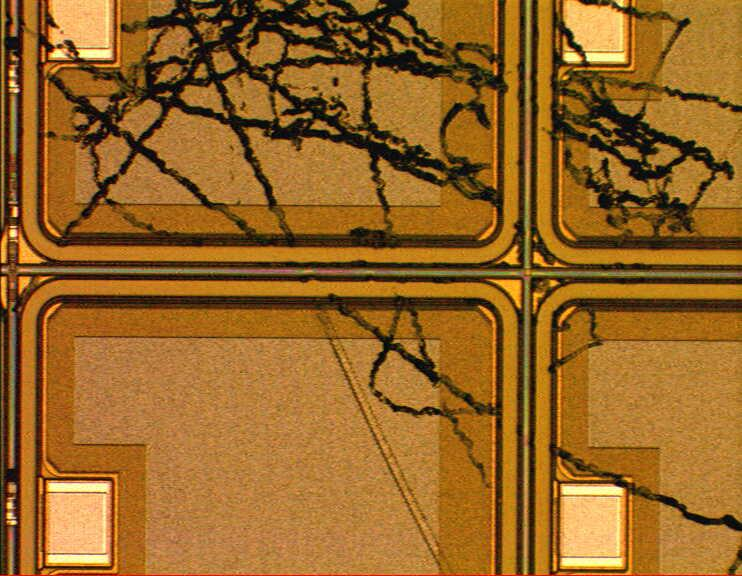SCRATCH: (3, 1, 742, 576)
